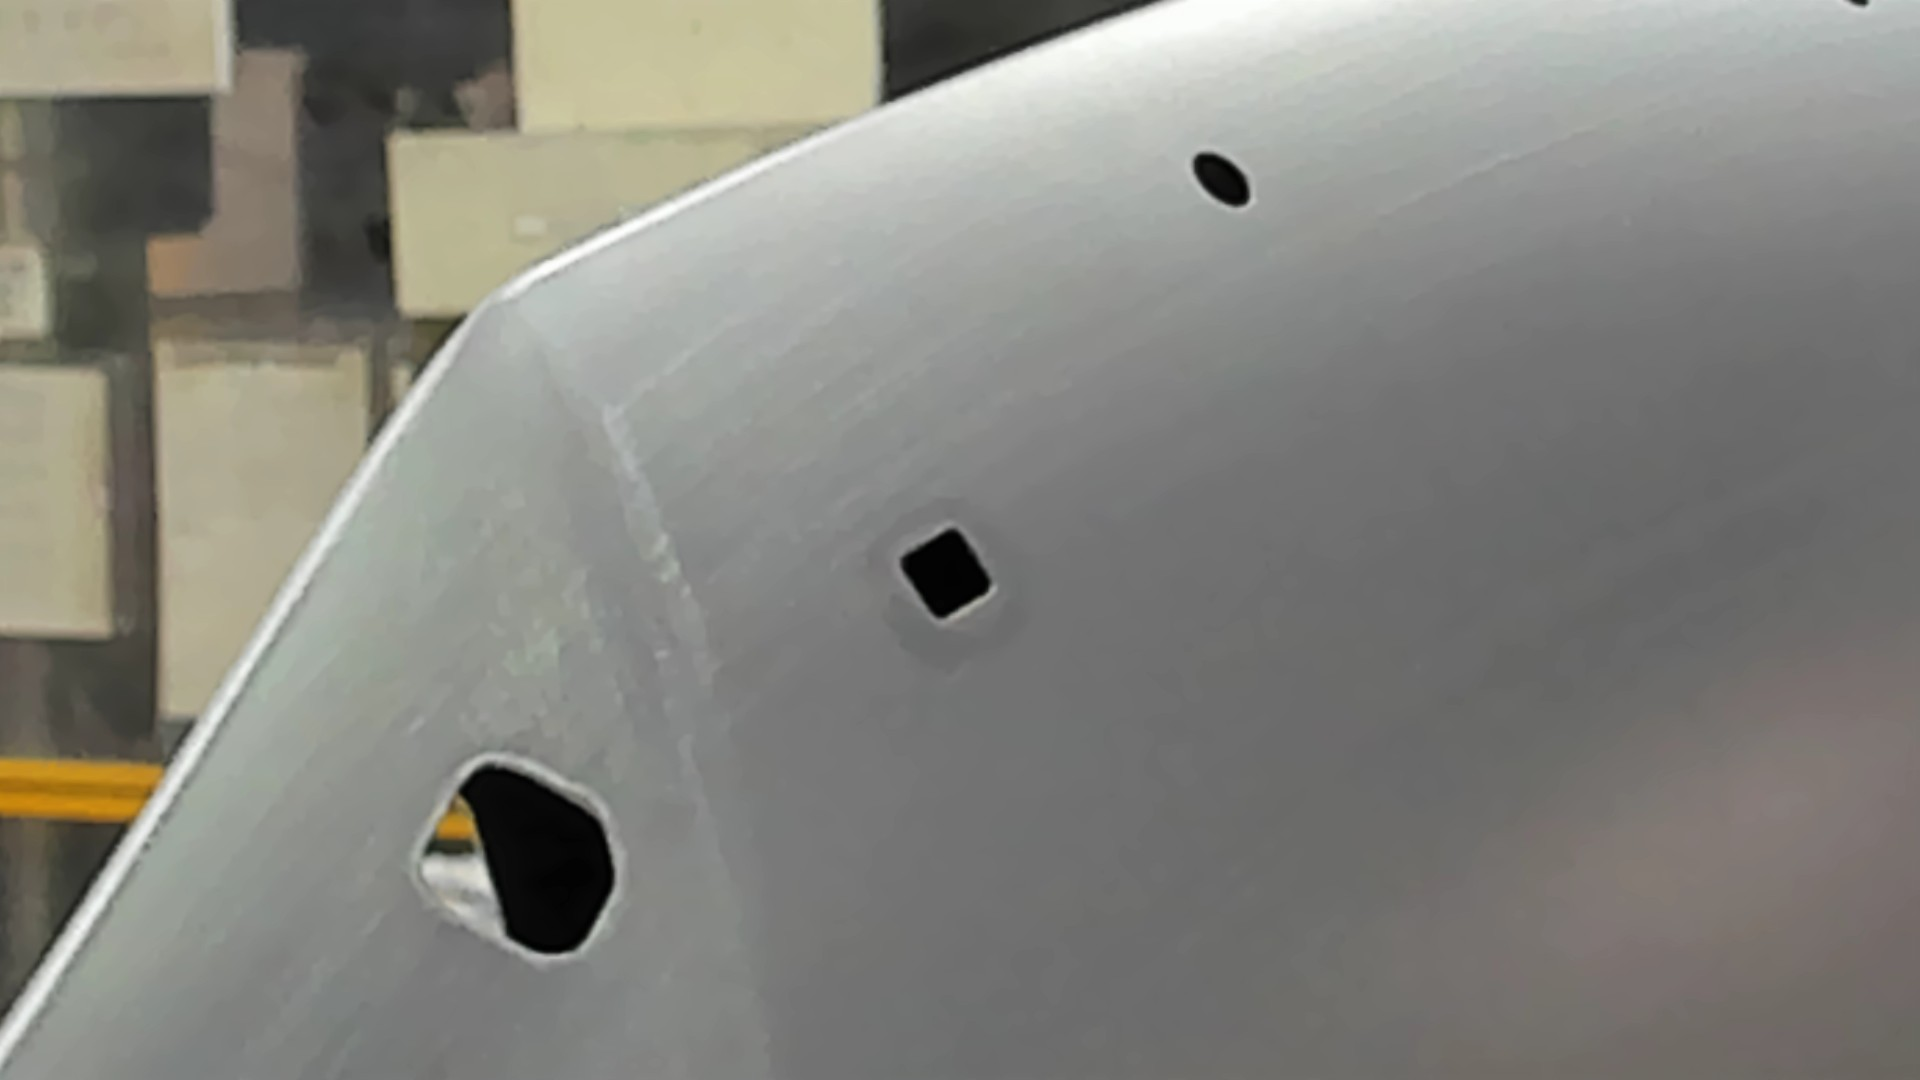chico: (1187, 144, 1255, 215)
grande: (405, 749, 630, 971)
mediano: (887, 518, 1004, 628)
